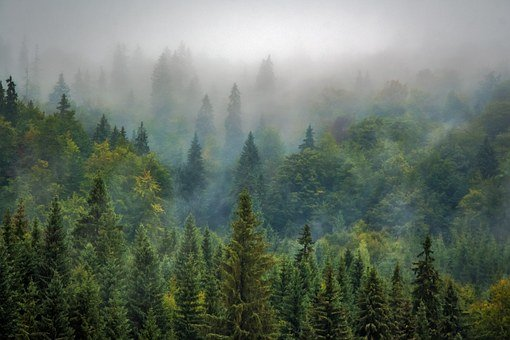forest: (9, 55, 509, 338)
